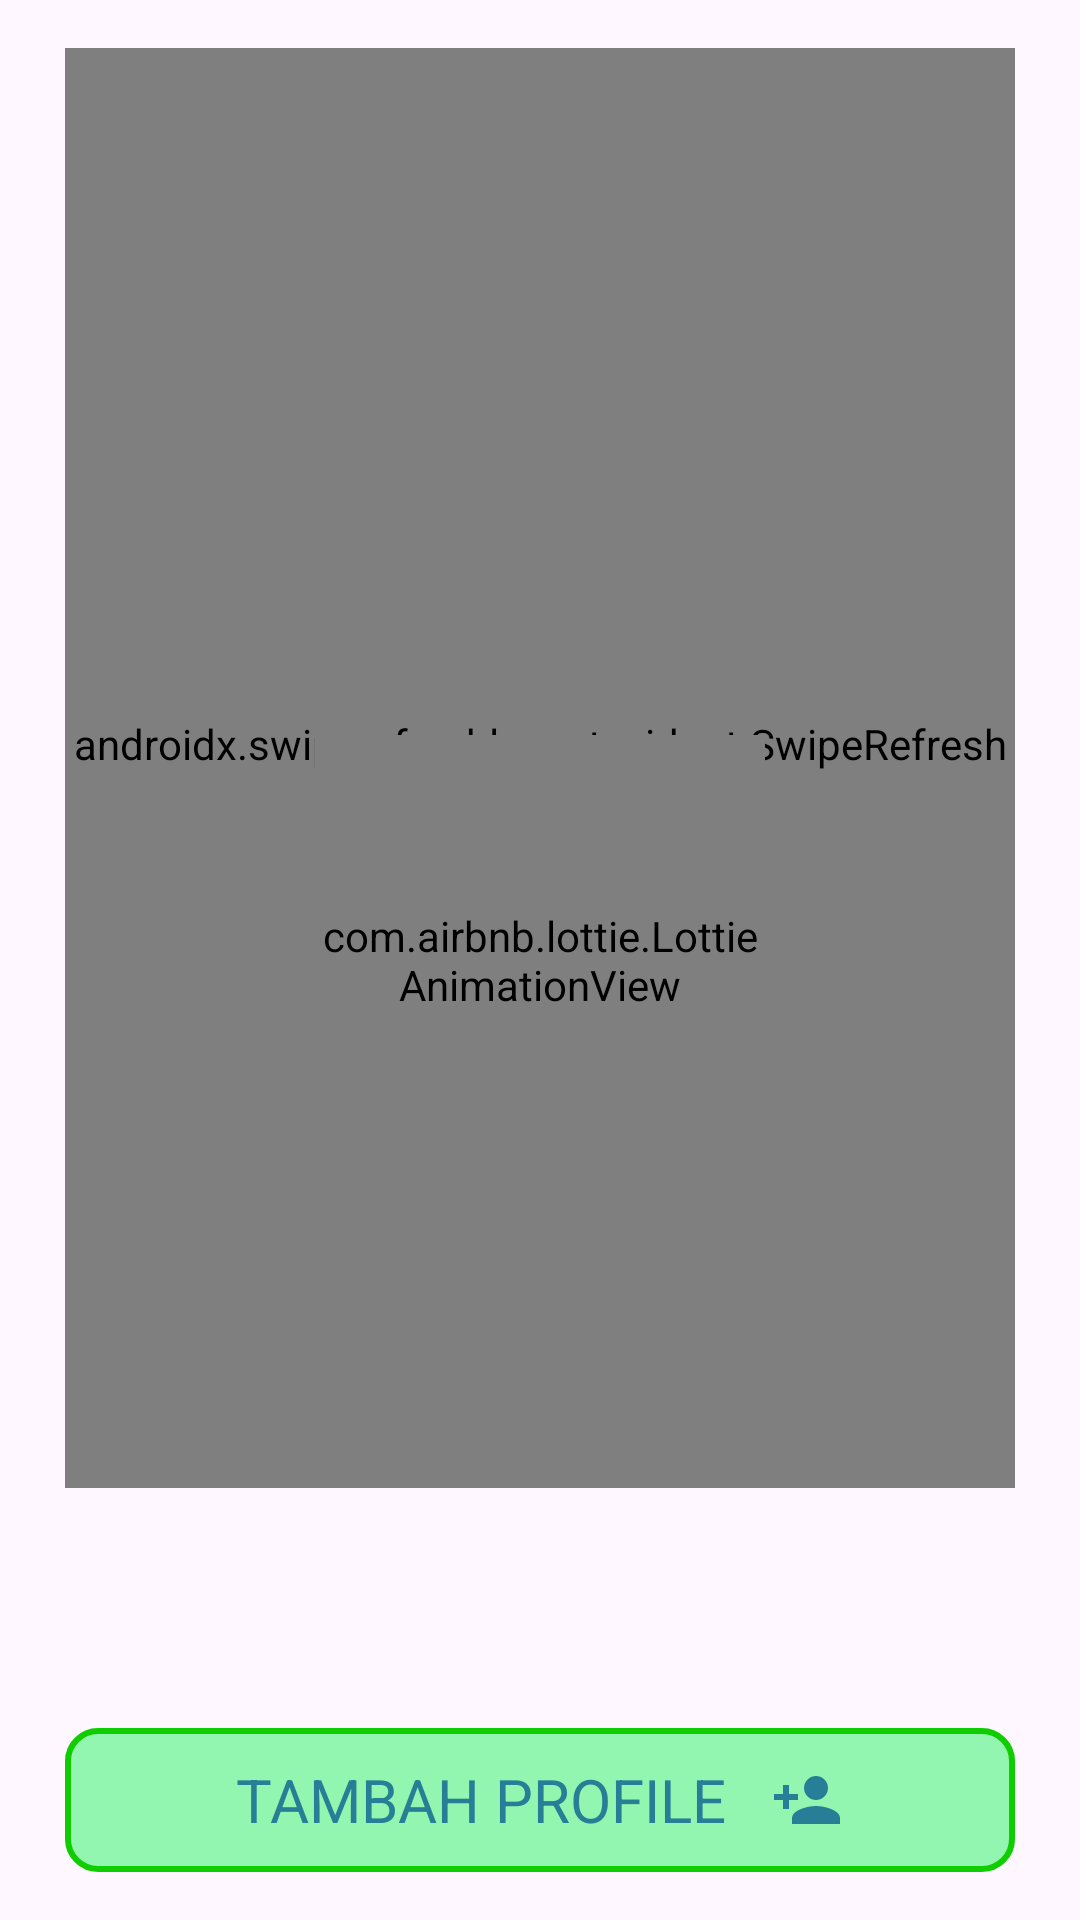

Point at icon controls on the screen. Image size 1080px×1920px, points as point (x, y).
add: point (807, 1800)
